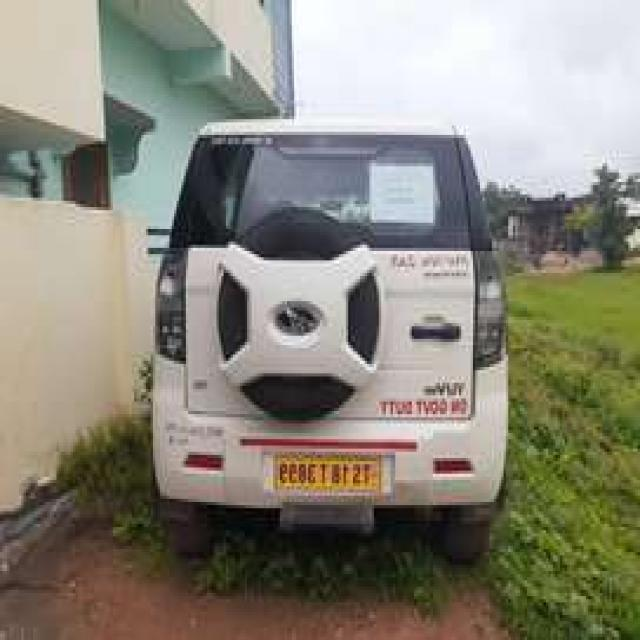license_plate: (272, 450, 384, 500)
